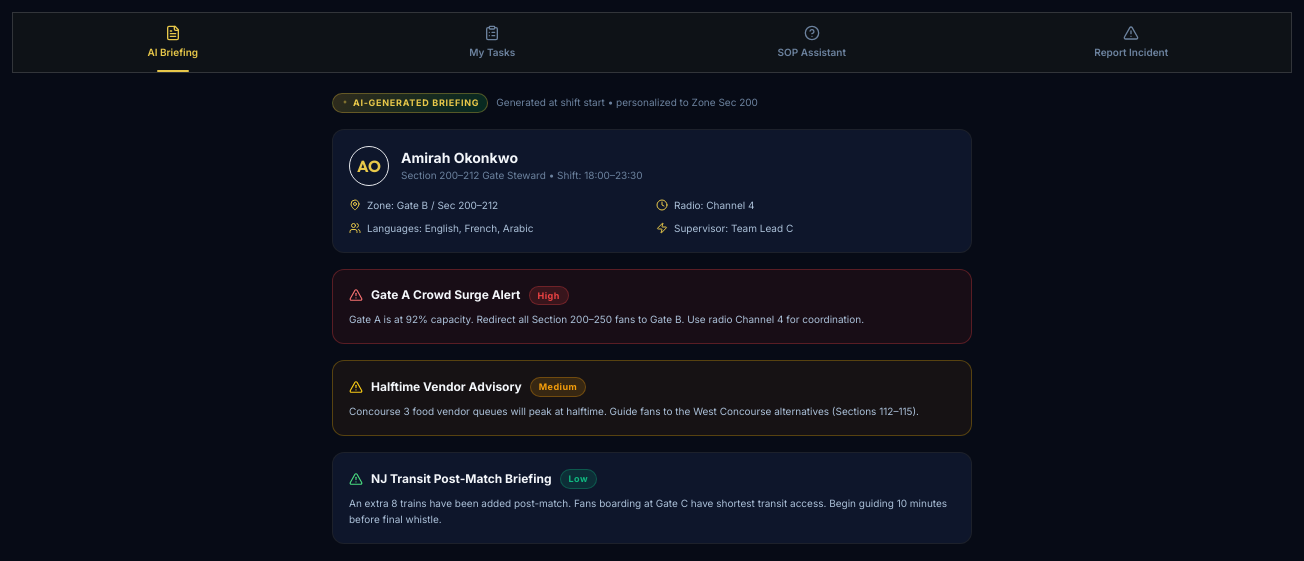
it: Report Incident Form Integration Test › shows validation errors on empty submission, then succeeds when filled out correctly
# Switch to Report Incident tab
Click the tab "Report Incident" at (1131, 42), box left=972, top=13, right=1291, bottom=72
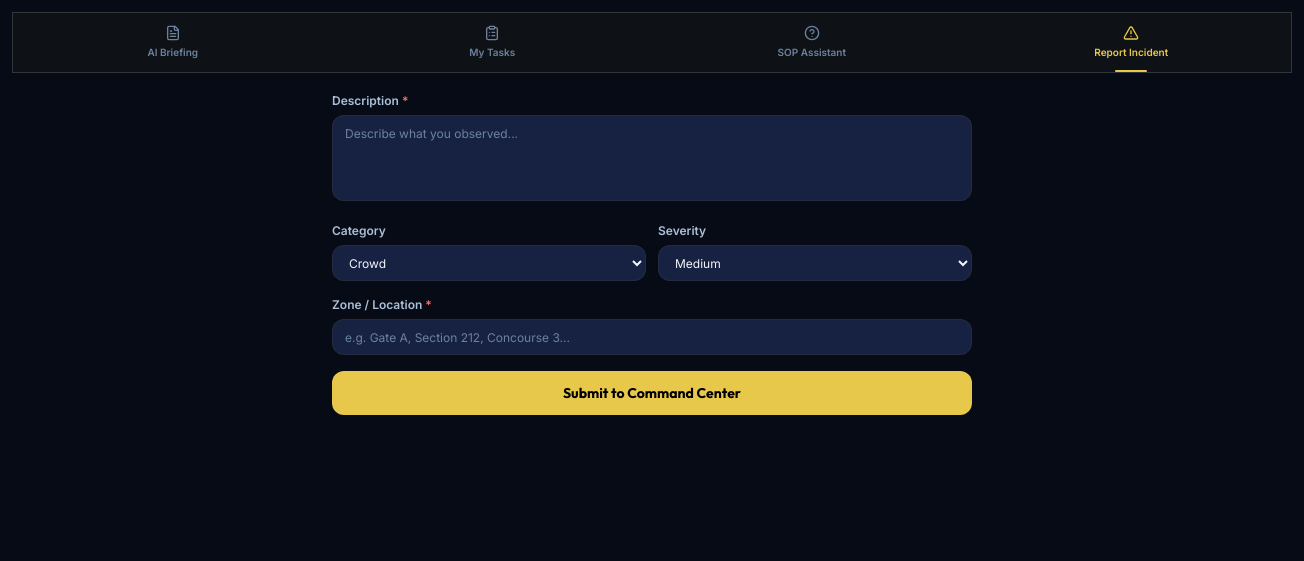
Click the button with aria-label "submit incident report" at (652, 393), box left=332, top=371, right=972, bottom=415
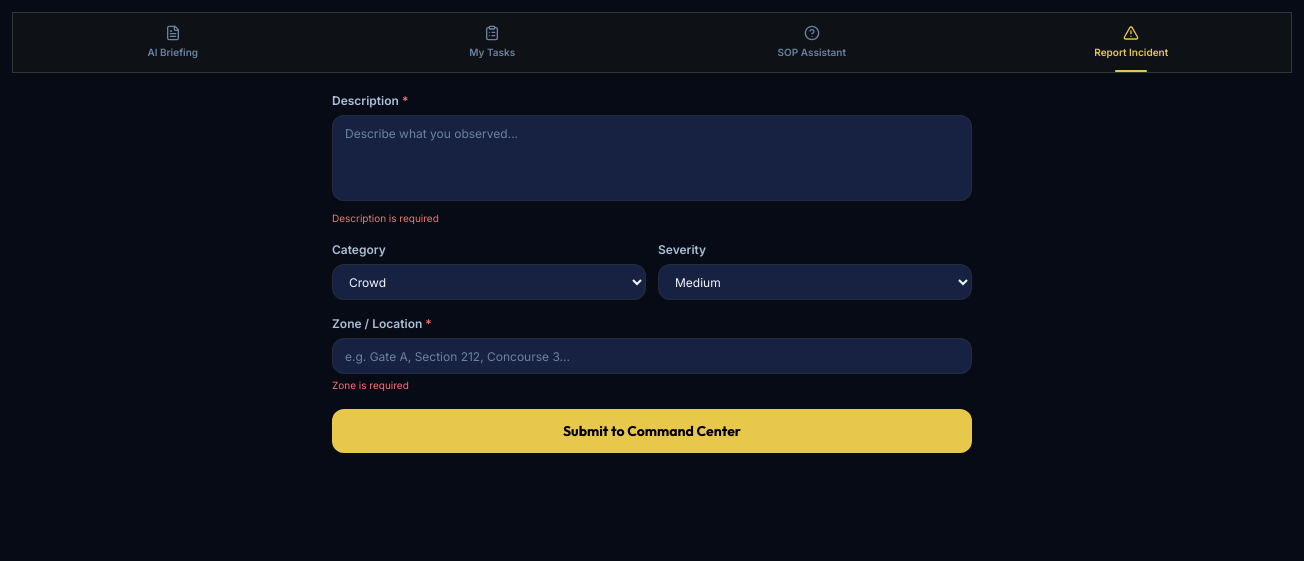
Check: the text "Description is required" is shown, box left=332, top=212, right=439, bottom=224
Check: the text "Zone is required" is shown, box left=332, top=379, right=409, bottom=391
Type "Crowd congestion observed near Gate A stairs" into the text box labelled "Description *" at (652, 158), box left=332, top=115, right=972, bottom=201
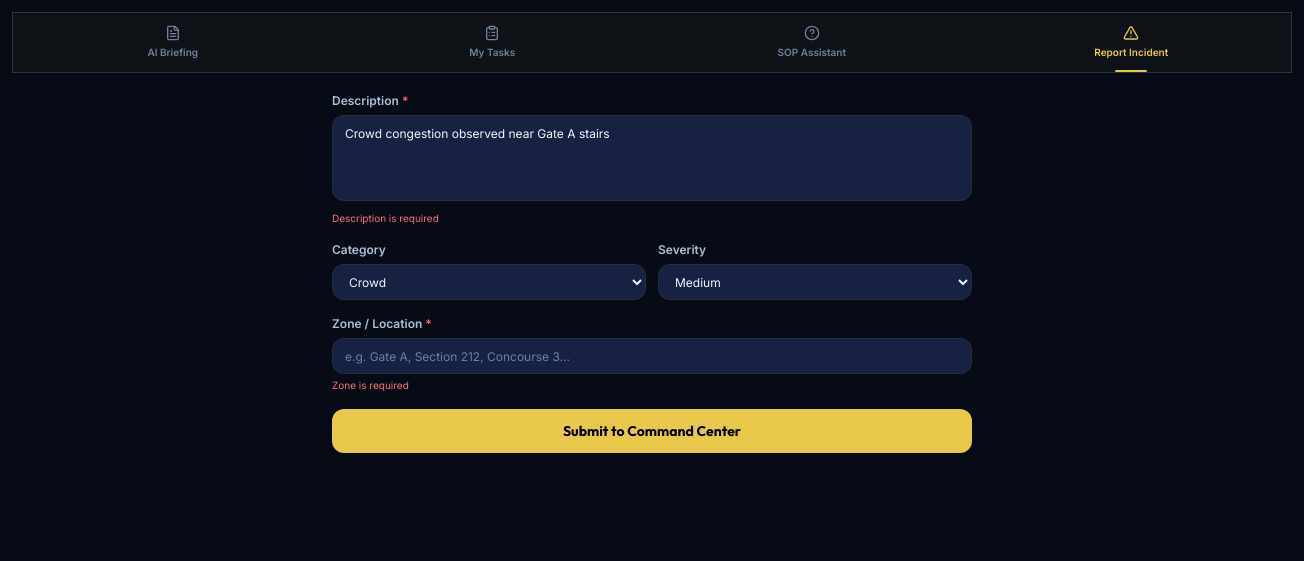
Type "Gate A Escalators" into the field labelled "Zone / Location *" at (652, 356), box left=332, top=338, right=972, bottom=374
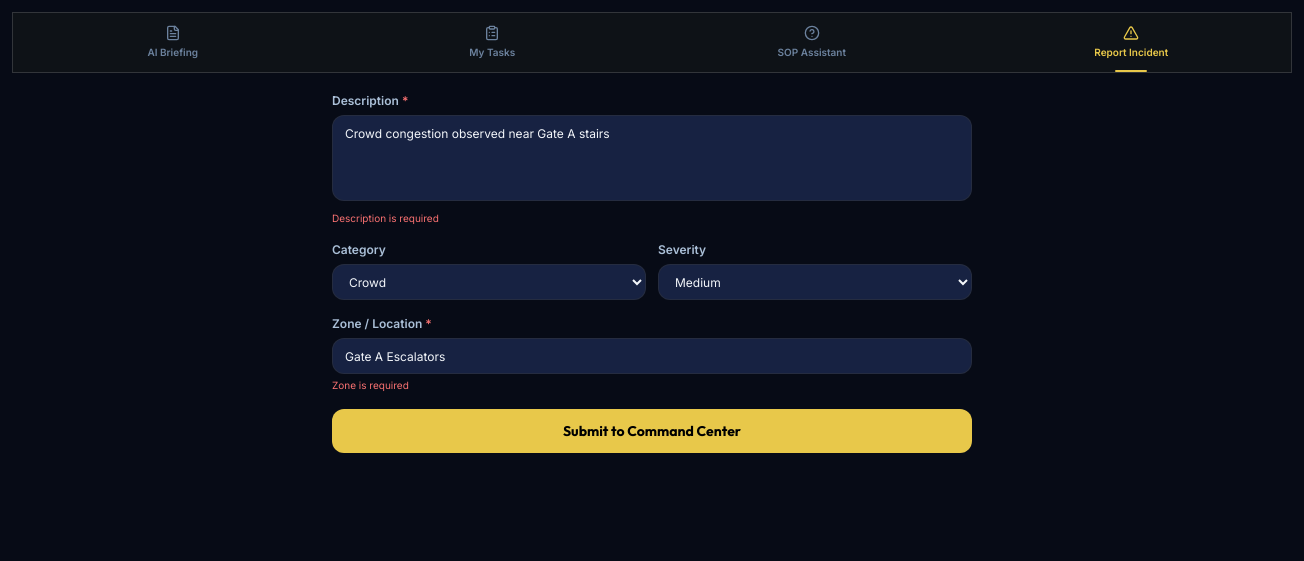
Select "Crowd" in the dropdown labelled "Category" at (489, 282), box left=332, top=264, right=646, bottom=300
Select "High" in the dropdown labelled "Severity" at (815, 282), box left=658, top=264, right=972, bottom=300
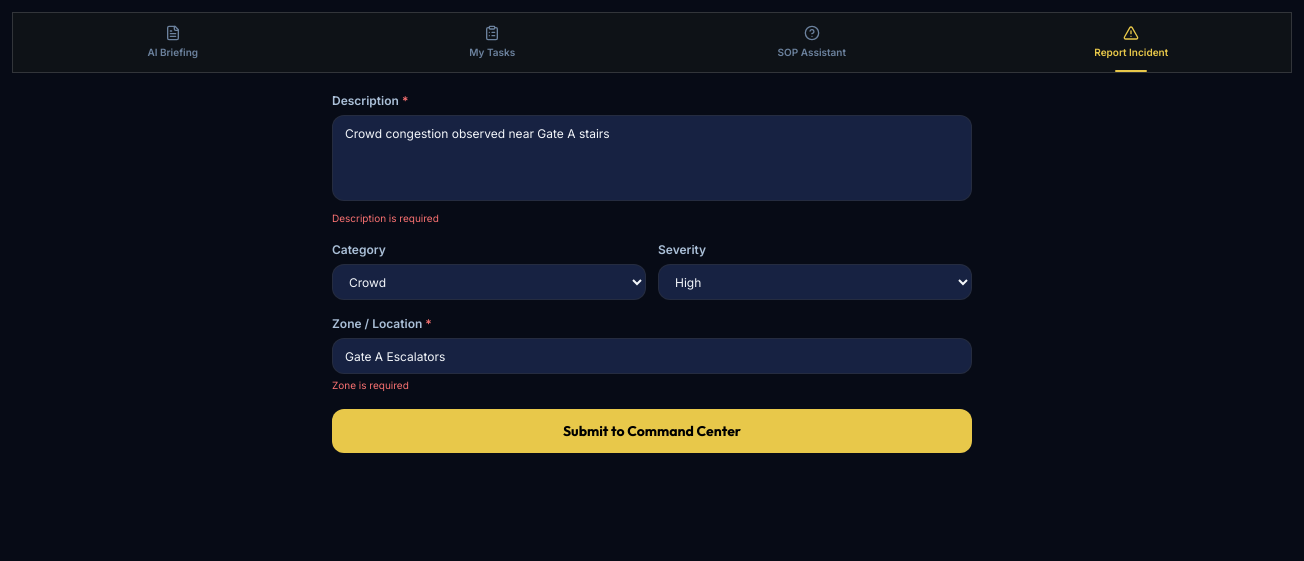
# Submit again
Click the button with aria-label "submit incident report" at (652, 431), box left=332, top=409, right=972, bottom=453
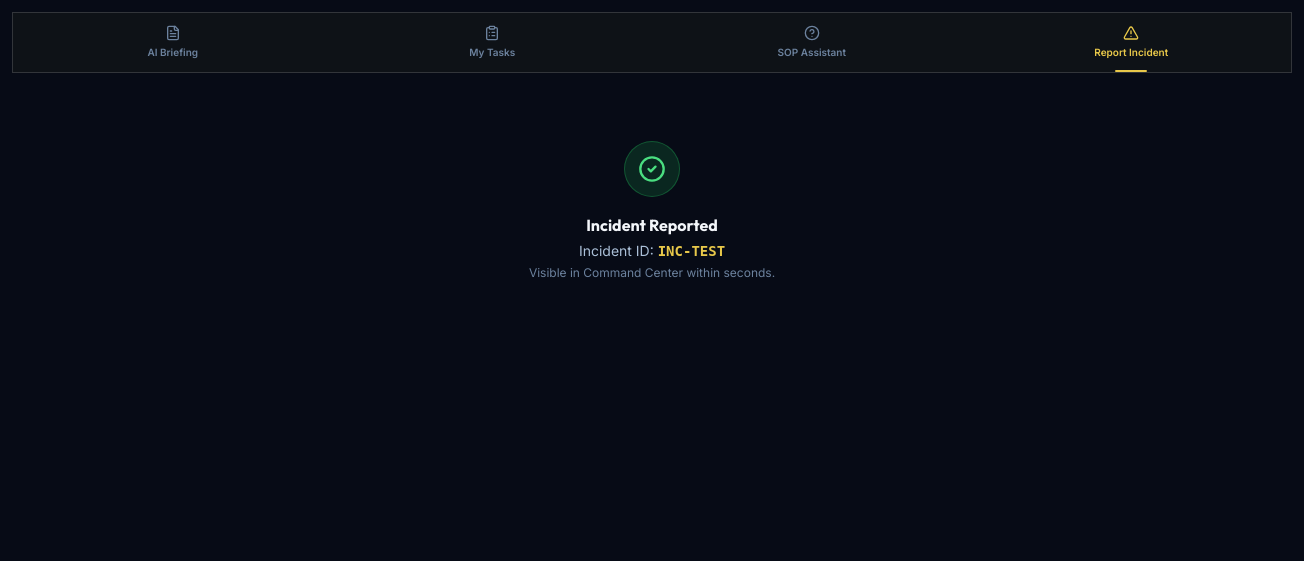
Check: the heading "Incident Reported" is shown, box left=586, top=213, right=718, bottom=237
Check: the text "INC-TEST" is shown, box left=658, top=243, right=725, bottom=259
